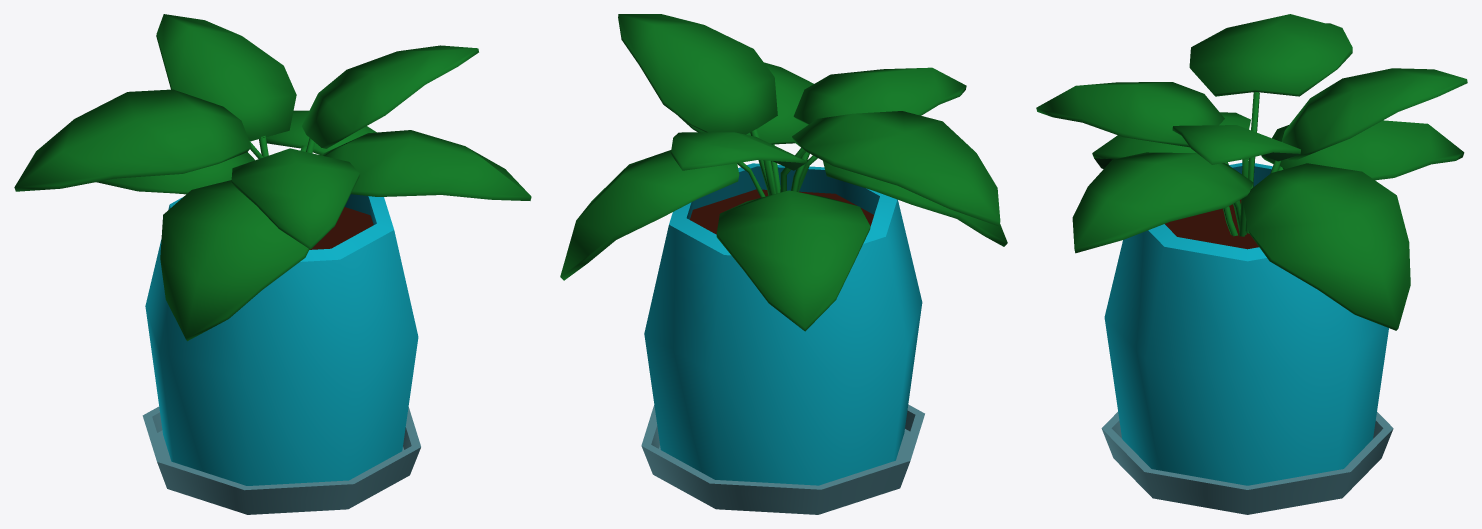
File: PlantaPequena.fbx
3 renders of one model, left to right at view 1: azimuth 30°, elevation 25°; view 2: azimuth 150°, elevation 25°; view 3: azimuth 270°, elevation 25°, orthographic.
Visible parts, largest first — view 1: PlantaPequena; view 2: PlantaPequena; view 3: PlantaPequena.
Boxes of the visible parts, bbox=[...] form: PlantaPequena: bbox=[14, 14, 531, 514]; PlantaPequena: bbox=[560, 14, 1007, 514]; PlantaPequena: bbox=[1036, 14, 1467, 514].
Bounding box in the file's own units: 16.39 × 14.33 × 14.4.
